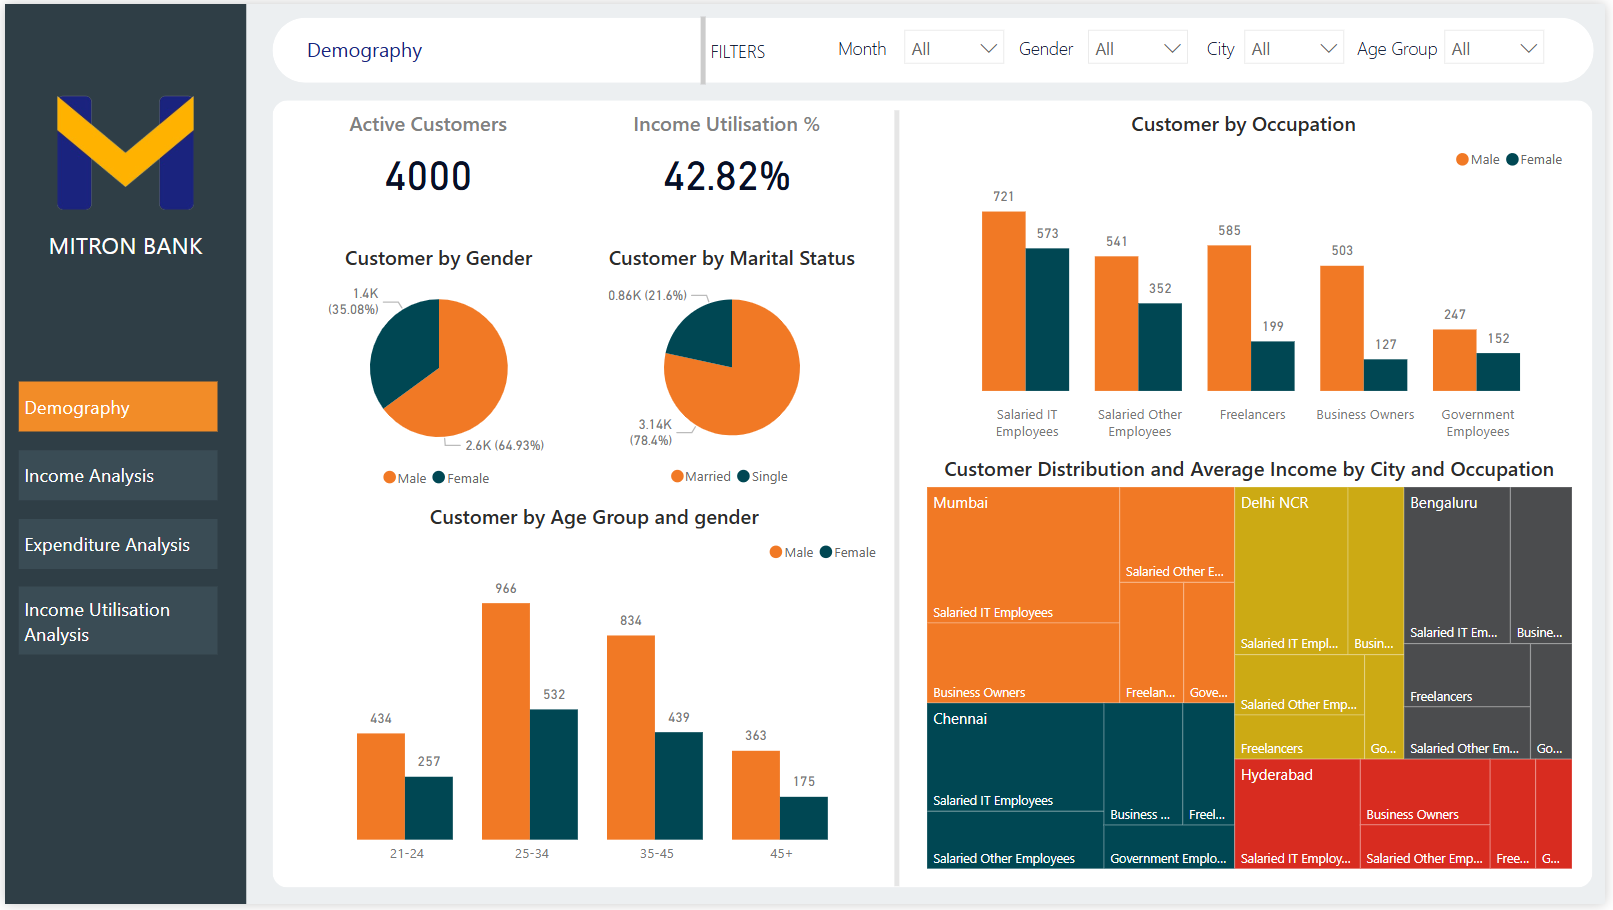

What the dashboard file says about the page in this screenshot:
{"tool":"powerbi","page":{"name":"Demography","canvas":[1280,720],"ordinal":0},"visuals":[{"type":"image","box":[0,0,192,221.2],"z":0,"group":"g4"},{"type":"shape","box":[214.1,11,1056.6,52.1],"z":0,"group":"g1"},{"type":"shape","box":[213.7,76.8,1056.4,630.1],"z":0},{"type":"textbox","box":[0,175.3,192,45.9],"z":1000,"group":"g4"},{"type":"pieChart","title":"Customer by Marital Status","fields":{"Y":["Count(fact_spends.customer_id)"],"Series":["dim_customers.marital status"]},"box":[465.7,190.6,230.4,205.1],"z":1000},{"type":"slicer","fields":{"Values":["fact_spends.month"]},"box":[708.9,10.9,100,45],"z":2000,"group":"g1"},{"type":"treemap","title":"Customer Distribution and Average Income by City and Occupation","fields":{"Group":["dim_customers.city"],"Details":["dim_customers.occupation"],"Values":["Sum(dim_customers.avg_income)"]},"box":[732.3,359.5,526,337.8],"z":2000},{"type":"slicer","fields":{"Values":["dim_customers.gender"]},"box":[855.8,10.9,100,45],"z":3000,"group":"g1"},{"type":"clusteredColumnChart","title":"Customer by Occupation","fields":{"Category":["dim_customers.occupation"],"Y":["Count(fact_spends.customer_id)"],"Series":["dim_customers.gender"]},"box":[726.3,84.5,528.4,272.7],"z":3000},{"type":"slicer","fields":{"Values":["dim_customers.city"]},"box":[980.7,11.2,100,45],"z":4000,"group":"g1"},{"type":"shape","box":[695.7,84.6,35.6,621.2],"z":4000},{"type":"slicer","fields":{"Values":["dim_customers.age_group"]},"box":[1141.3,10.9,100,45],"z":5000,"group":"g1"},{"type":"clusteredColumnChart","title":"Customer by Age Group and gender","fields":{"Category":["dim_customers.age_group"],"Series":["dim_customers.gender"],"Y":["Count(fact_spends.customer_id)"]},"box":[236.5,398.1,469.3,299.2],"z":5000},{"type":"textbox","box":[558.8,22.5,70,36.2],"z":6000,"group":"g1"},{"type":"pieChart","title":"Customer by Gender","fields":{"Category":["dim_customers.gender"],"Y":["Count(fact_spends.customer_id)"]},"box":[226.8,190.6,238.9,206.3],"z":6000},{"type":"group","id":"g1","title":"Group 2","box":[214.1,10,1056.6,55],"z":7000},{"type":"textbox","box":[796,21.3,72.7,32.7],"z":7000,"group":"g1"},{"type":"textbox","box":[955.7,21.2,41.2,36.2],"z":8000,"group":"g1"},{"type":"card","title":"Income Utilisation %","fields":{"Values":["fact_spends.Income Utilisation %"]},"box":[474.1,84.5,206.3,80.8],"z":8000},{"type":"textbox","box":[1076,21.3,96,37.3],"z":9000,"group":"g1"},{"type":"card","title":"Active Customers","fields":{"Values":["Count(fact_spends.customer_id)"]},"box":[236.5,84.5,203.9,80.8],"z":9000},{"type":"actionButton","box":[10.9,466.9,159.3,54.3],"z":9000,"group":"g2"},{"type":"shape","box":[541.3,10,35,55],"z":10000,"group":"g1"},{"type":"textbox","box":[236,20,282,36],"z":10000},{"type":"actionButton","title":"HOME","box":[11.2,302.4,158.7,40],"z":10000,"group":"g2"},{"type":"group","id":"g2","title":"Group 3","box":[10.9,302.4,159.3,218.8],"z":10001,"group":"g3"},{"type":"shape","box":[0,0,192.6,720.2],"z":11000},{"type":"textbox","box":[661.4,21.3,58,36],"z":11000,"group":"g1"},{"type":"actionButton","title":"HOME","box":[11.2,357.4,158.7,40],"z":11000,"group":"g2"},{"type":"group","id":"g3","title":"Group 1","box":[10.9,302.4,159.3,218.8],"z":12000},{"type":"actionButton","title":"HOME","box":[11.2,412.4,158.7,40],"z":12000,"group":"g2"},{"type":"group","id":"g4","title":"Group 4","box":[0,0,192,221.2],"z":13000}]}

Visuals, with their boxes on the page's 1280x720 design canvas (x1, y1, x2, y2). These are canvas units, not pixel positions in the 1613x910 screenshot, which may show the page scaled, cropped or inside an application window:
image: x1=0, y1=0, x2=192, y2=221
shape: x1=214, y1=11, x2=1271, y2=63
shape: x1=214, y1=77, x2=1270, y2=707
textbox: x1=0, y1=175, x2=192, y2=221
"Customer by Marital Status" pieChart: x1=466, y1=191, x2=696, y2=396
slicer - fact_spends.month: x1=709, y1=11, x2=809, y2=56
"Customer Distribution and Average Income by City and Occupation" treemap: x1=732, y1=360, x2=1258, y2=697
slicer - dim_customers.gender: x1=856, y1=11, x2=956, y2=56
"Customer by Occupation" clusteredColumnChart: x1=726, y1=84, x2=1255, y2=357
slicer - dim_customers.city: x1=981, y1=11, x2=1081, y2=56
shape: x1=696, y1=85, x2=731, y2=706
slicer - dim_customers.age_group: x1=1141, y1=11, x2=1241, y2=56
"Customer by Age Group and gender" clusteredColumnChart: x1=236, y1=398, x2=706, y2=697
textbox: x1=559, y1=22, x2=629, y2=59
"Customer by Gender" pieChart: x1=227, y1=191, x2=466, y2=397
"Group 2" group: x1=214, y1=10, x2=1271, y2=65
textbox: x1=796, y1=21, x2=869, y2=54
textbox: x1=956, y1=21, x2=997, y2=57
"Income Utilisation %" card: x1=474, y1=84, x2=680, y2=165
textbox: x1=1076, y1=21, x2=1172, y2=59
"Active Customers" card: x1=236, y1=84, x2=440, y2=165
actionButton: x1=11, y1=467, x2=170, y2=521
shape: x1=541, y1=10, x2=576, y2=65
textbox: x1=236, y1=20, x2=518, y2=56
"HOME" actionButton: x1=11, y1=302, x2=170, y2=342
"Group 3" group: x1=11, y1=302, x2=170, y2=521
shape: x1=0, y1=0, x2=193, y2=720
textbox: x1=661, y1=21, x2=719, y2=57
"HOME" actionButton: x1=11, y1=357, x2=170, y2=397
"Group 1" group: x1=11, y1=302, x2=170, y2=521
"HOME" actionButton: x1=11, y1=412, x2=170, y2=452
"Group 4" group: x1=0, y1=0, x2=192, y2=221
